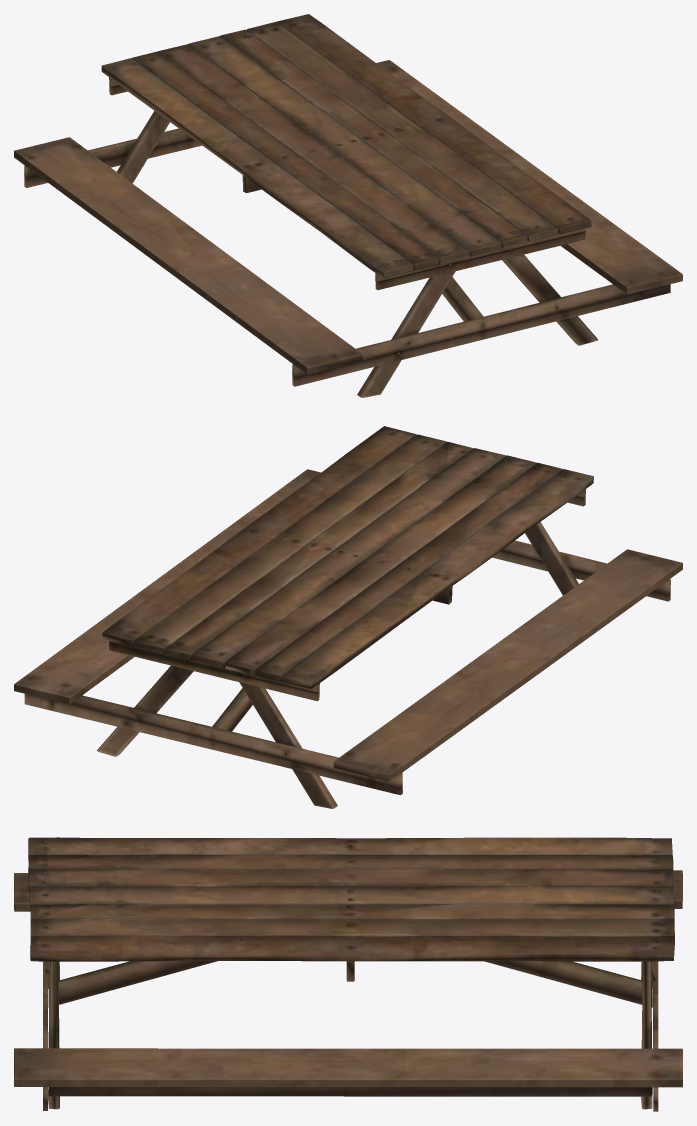
File: table_pique_nique_lod1.glb
3 renders of one model, top to bottom at view 1: azimuth 30°, elevation 25°; view 2: azimuth 150°, elevation 25°; view 3: azimuth 270°, elevation 25°, orthographic. The views are drawn at different scales.
Parts seen in each view (by area): view 1: wooden_picnic_table; view 2: wooden_picnic_table; view 3: wooden_picnic_table.
Part boxes in pixels (x1=…): wooden_picnic_table: x1=14, y1=14, x2=682, y2=397; wooden_picnic_table: x1=14, y1=426, x2=682, y2=808; wooden_picnic_table: x1=14, y1=837, x2=682, y2=1111.
Bounding box in the file's own units: 2.24 × 0.7453 × 3.02.
2 materials, 2 textured.
